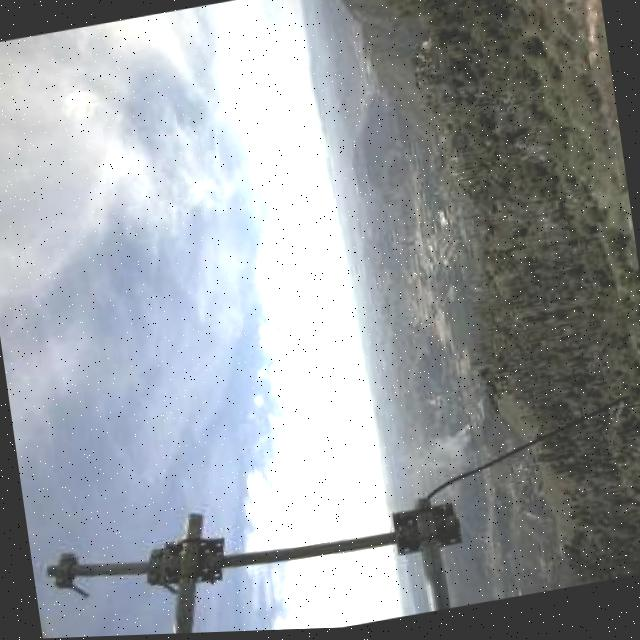Smoke: (370, 425, 484, 514)
